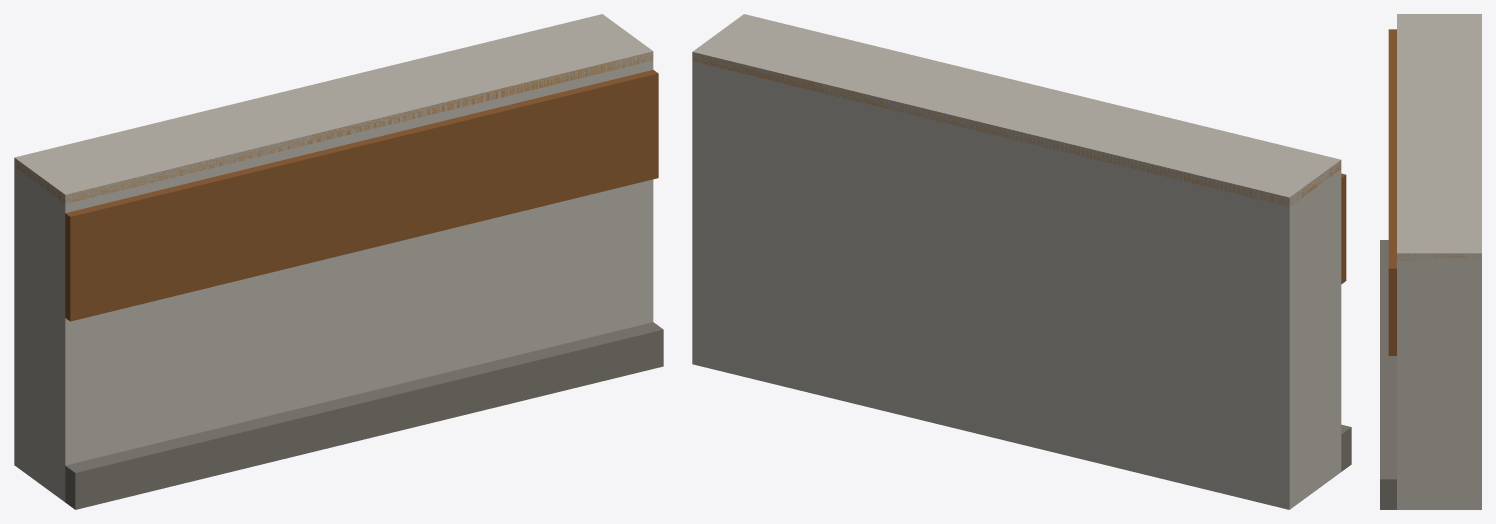
Rendered from wall.glb.
The picture shows the model from 3 angles, left to right: view 1: azimuth 30°, elevation 25°; view 2: azimuth 150°, elevation 25°; view 3: azimuth 270°, elevation 25°; orthographic projection. The views are drawn at different scales.
Visible parts, largest first — view 1: wall; view 2: wall; view 3: wall.
Part boxes in pixels (x1=…): wall: x1=14, y1=14, x2=663, y2=509; wall: x1=692, y1=14, x2=1351, y2=509; wall: x1=1380, y1=14, x2=1481, y2=509.
Bounding box in the file's own units: 1 × 0.5 × 0.18.
Materials: 1 (1 with a texture image).
